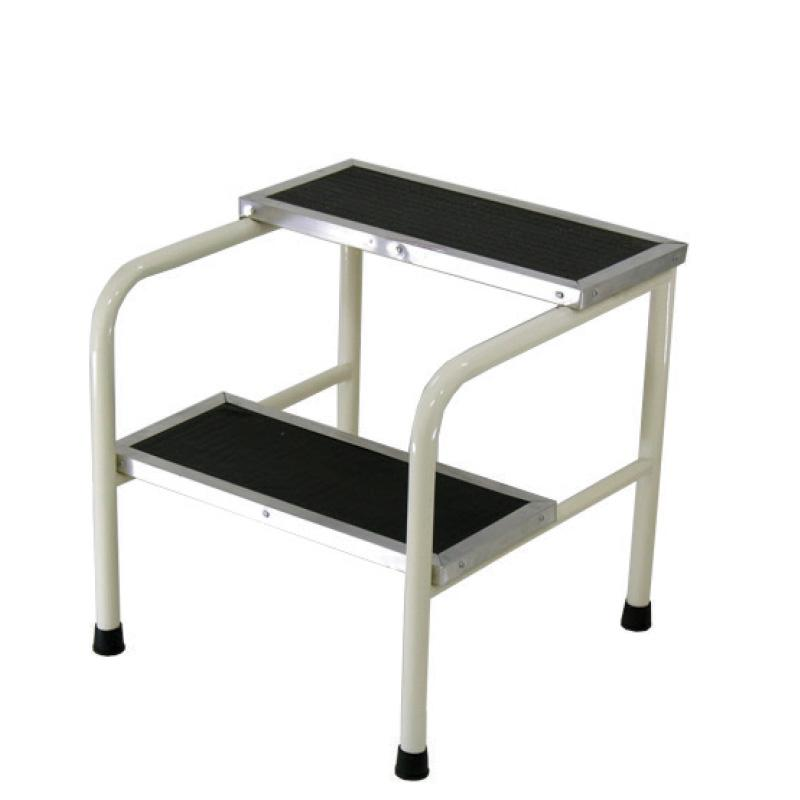stool: (56, 128, 694, 795)
